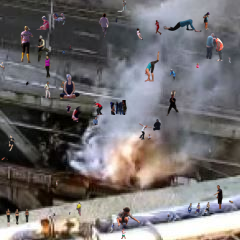Human: (97, 13, 118, 39), (205, 33, 224, 61), (66, 100, 90, 122), (143, 51, 160, 82), (59, 74, 80, 99), (136, 20, 162, 40), (20, 26, 34, 63), (36, 13, 66, 30), (163, 19, 202, 32), (6, 208, 29, 230), (116, 207, 141, 227), (35, 35, 50, 68), (44, 81, 67, 99), (166, 90, 180, 116), (187, 202, 210, 215), (138, 123, 152, 143), (212, 185, 223, 209), (110, 100, 127, 115), (44, 54, 51, 79), (92, 102, 104, 116), (153, 119, 161, 138), (203, 12, 210, 30), (117, 0, 127, 12), (8, 135, 15, 152), (62, 45, 73, 54), (168, 69, 176, 81), (76, 202, 82, 216), (121, 228, 126, 239), (110, 223, 115, 233), (196, 63, 205, 68), (93, 117, 98, 125), (0, 62, 5, 70), (161, 214, 171, 217), (49, 213, 57, 216), (1, 157, 8, 160), (229, 200, 234, 204), (26, 81, 30, 86), (69, 212, 75, 215), (228, 57, 231, 63), (56, 180, 59, 186), (37, 91, 39, 100)
